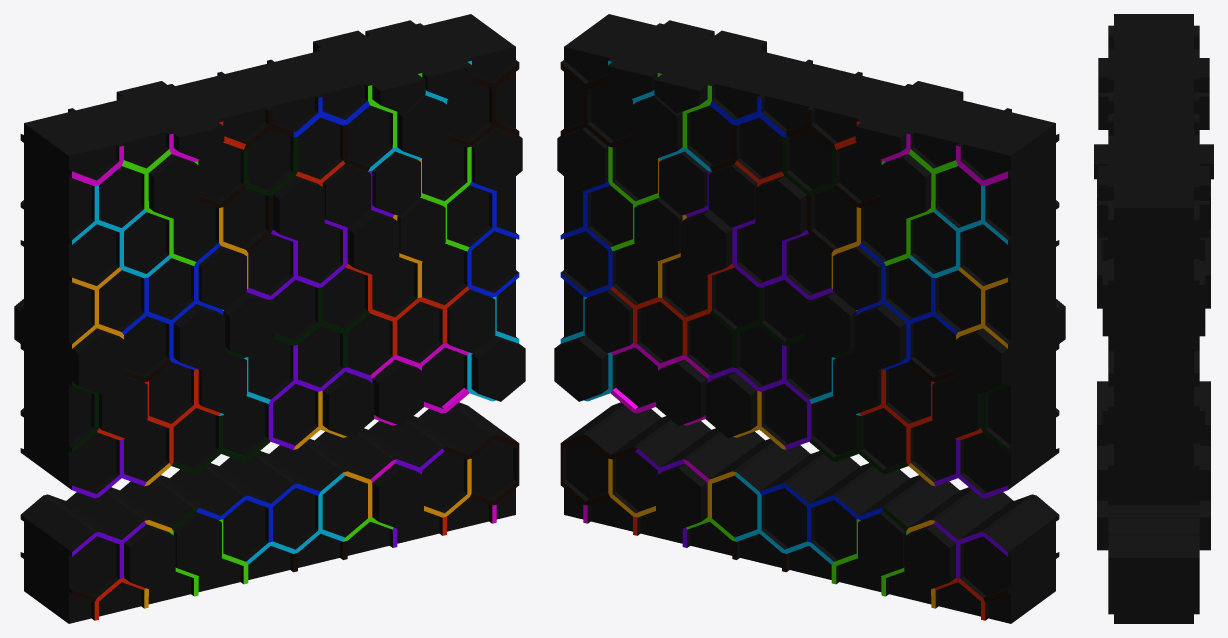
Rendered from P_Wall_Window_Seamles.FBX.
The picture shows the model from 3 angles, left to right: view 1: azimuth 30°, elevation 25°; view 2: azimuth 150°, elevation 25°; view 3: azimuth 270°, elevation 25°; orthographic projection. The views are drawn at different scales.
Parts seen in each view (by area): view 1: P_Hexagonal_Wall_Haut; view 2: P_Hexagonal_Wall_Haut; view 3: P_Hexagonal_Wall_Haut.
Boxes of the visible parts, box(x1,y1,x2,y2) form: P_Hexagonal_Wall_Haut: box(14, 14, 525, 623); P_Hexagonal_Wall_Haut: box(554, 14, 1065, 623); P_Hexagonal_Wall_Haut: box(1094, 14, 1213, 623).
Bounding box in the file's own units: 4 × 4 × 1.04.
